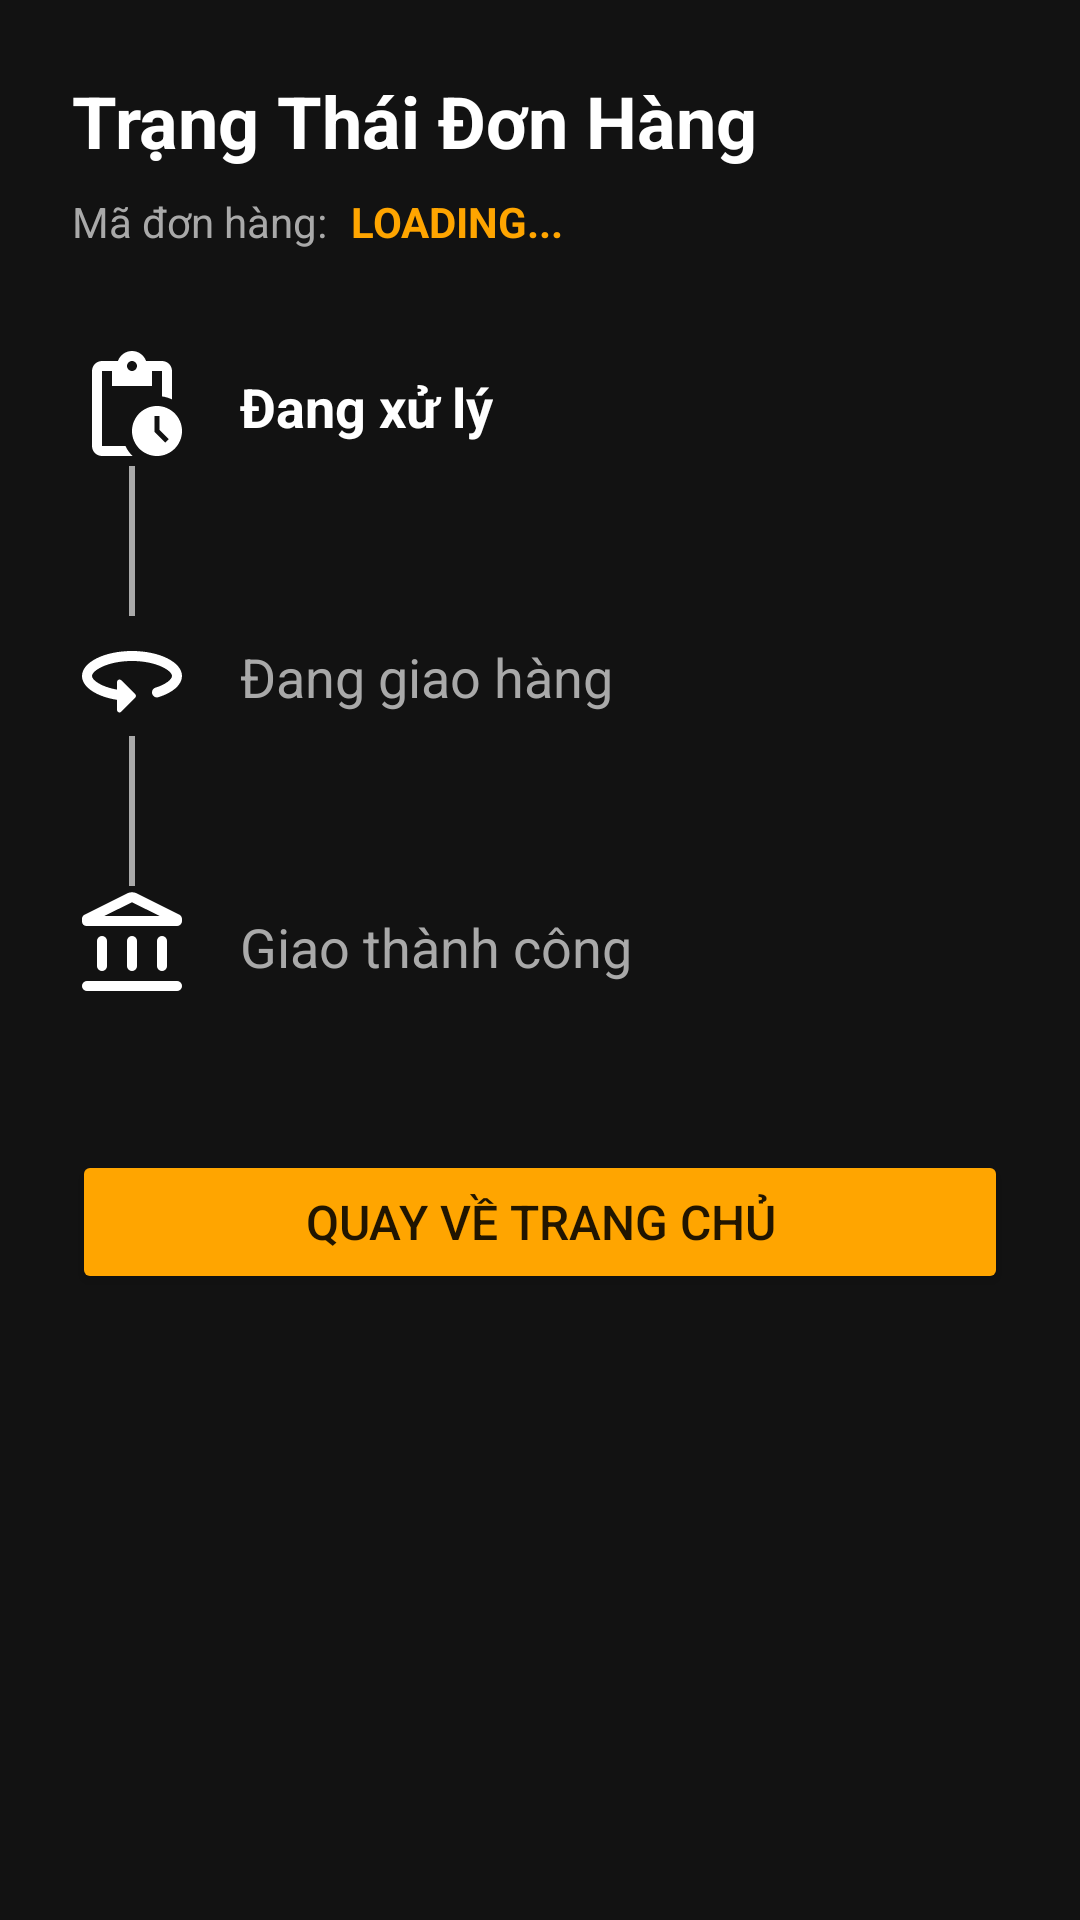

Where icons sit on this 1080*1920 app screen, as (x1, y1, x2, y2):
status processing: (92, 351, 182, 456)
